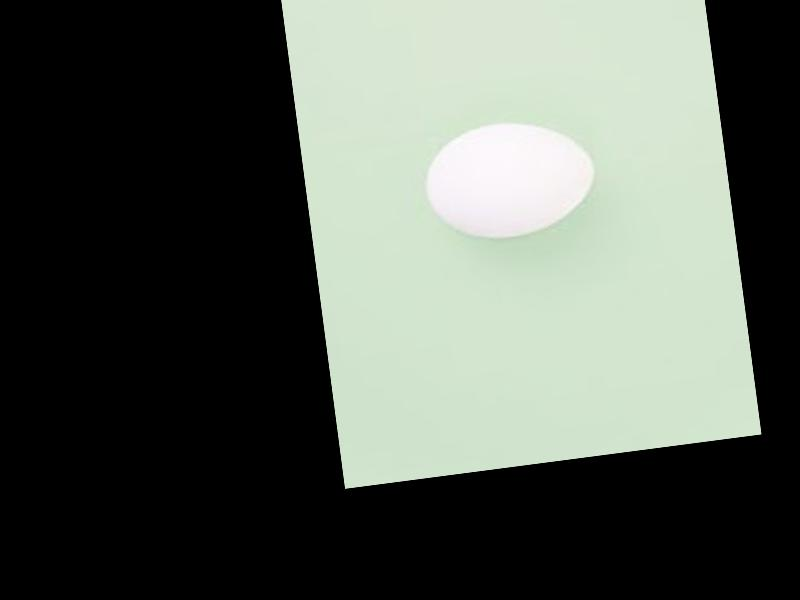Eggs: (417, 112, 601, 248)
